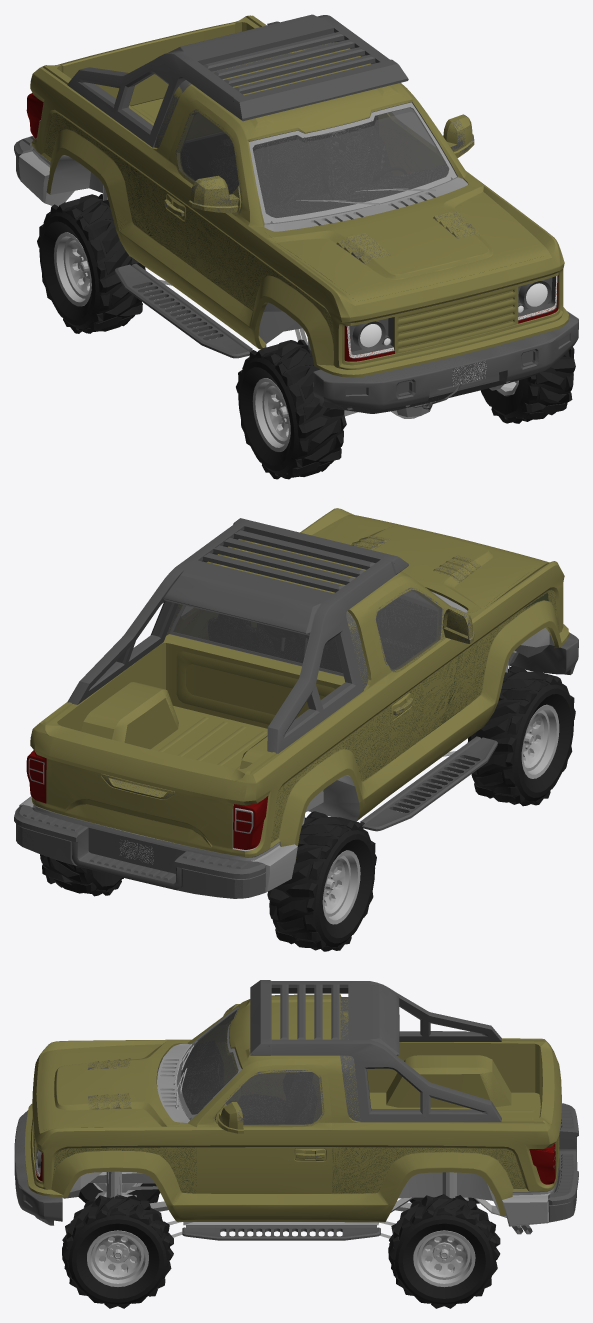
File: Jeep.FBX
3 views of the same model, one above another, from view 1: azimuth 30°, elevation 25°; view 2: azimuth 150°, elevation 25°; view 3: azimuth 270°, elevation 25° (orthographic). The views are drawn at different scales.
Parts seen in each view (by area): view 1: Body, Top, Hood, Right Door, Windscreen, Wheel_FR, Front Bumper, Wheel_RR, Chassis, Grill, Basement, Trunk (+3 smaller); view 2: Body, Top, Trunk, Right Door, Wheel_RR, Rear Bumper, Wheel_FR, Hood, Chassis, Rear Window, Basement, Wheel_RL (+3 smaller); view 3: Body, Left Door, Top, Wheel_RL, Wheel_FL, Hood, Chassis, Windscreen, Basement, Rear Bumper, Front Bumper, Trunk (+4 smaller).
Boxes of the visible parts, x1,y1,x2,y2 form: Body: (30,15,568,377); Top: (67,14,408,147); Hood: (265,181,545,301); Right Door: (154,100,249,330); Windscreen: (252,107,452,223); Wheel_FR: (236,339,346,479); Front Bumper: (313,311,578,413); Wheel_RR: (37,194,145,333); Chassis: (18,102,467,350); Grill: (342,271,560,365); Basement: (115,263,252,358); Trunk: (58,22,236,105); Body: (30,508,568,863); Top: (67,518,408,753); Trunk: (49,726,235,854); Right Door: (368,582,479,786); Wheel_RR: (267,811,376,951); Rear Bumper: (14,804,265,898); Wheel_FR: (467,665,575,806); Hood: (313,515,545,612); Chassis: (19,591,554,892); Rear Window: (169,605,343,676); Basement: (360,736,497,831); Wheel_RL: (40,854,123,896); Body: (24,994,558,1222); Left Door: (197,1064,331,1215); Top: (250,980,501,1122); Wheel_RL: (388,1194,500,1308); Wheel_FL: (62,1194,173,1308); Hood: (40,1041,179,1129); Chassis: (63,1006,555,1226); Windscreen: (180,1009,238,1119); Basement: (182,1225,380,1240); Rear Bumper: (548,1103,578,1222); Front Bumper: (14,1110,62,1225); Trunk: (539,1047,561,1179).
Bounding box in the file's own units: 257 × 256 × 536.
